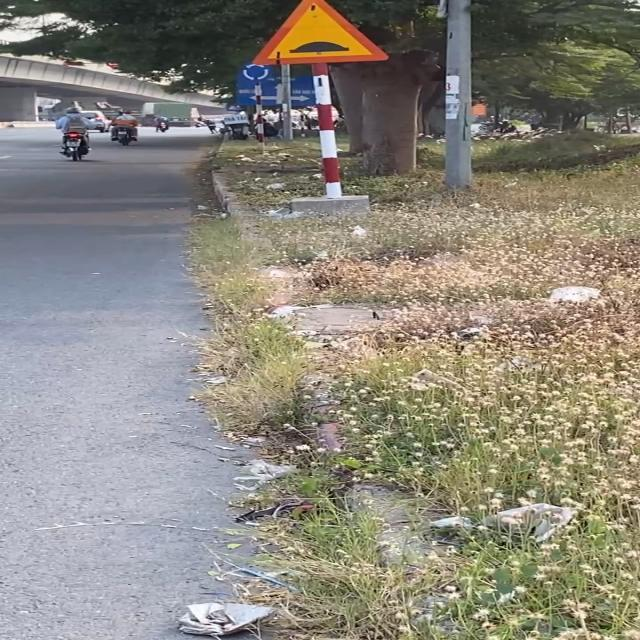221-duong-go-ghe: (251, 0, 389, 68)
303-noi-giao-nhau-chay-theo-vong-xuyen: (241, 62, 273, 82)
